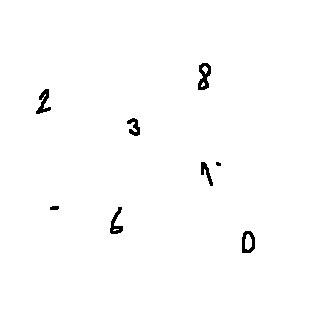.: (47, 198, 65, 223), (215, 157, 228, 172)
0: (228, 229, 265, 263)
1: (192, 155, 214, 199)
2: (33, 84, 60, 116)
3: (110, 113, 151, 141)
6: (107, 202, 137, 248)
8: (191, 59, 229, 101)
